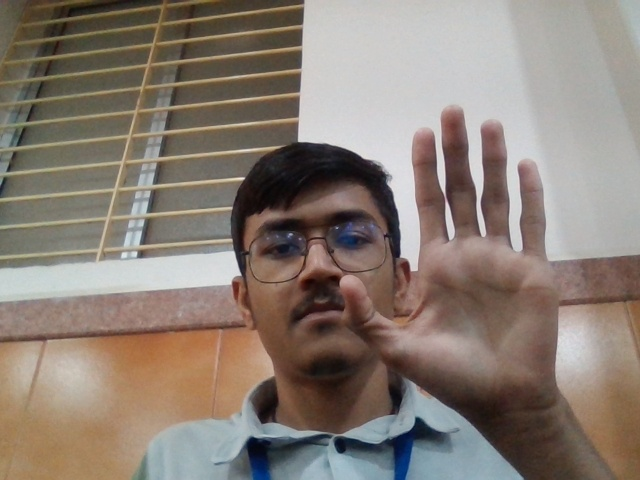Hello: (335, 102, 581, 406)
